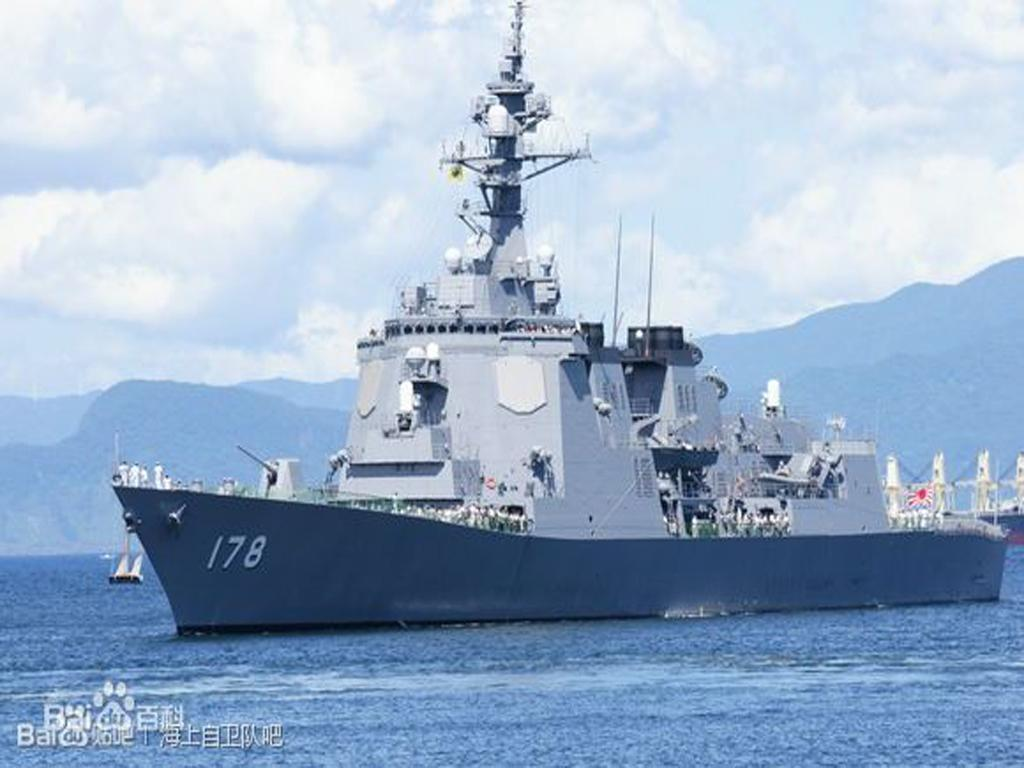Warship: (105, 27, 1011, 633)
